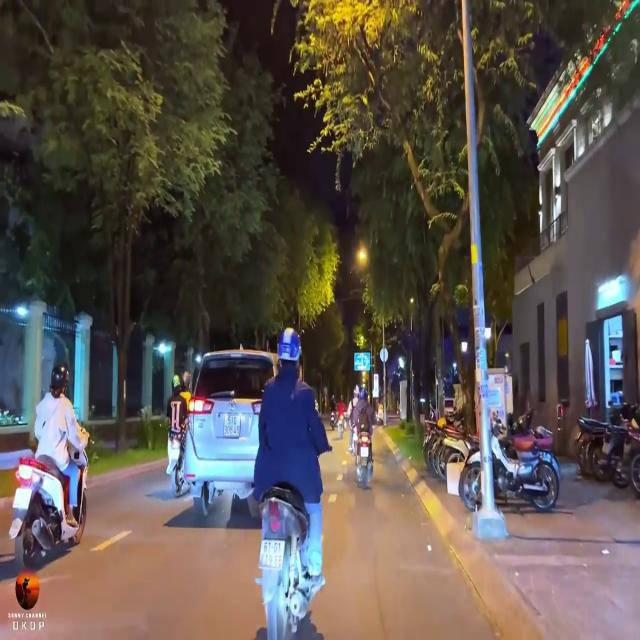bien_trang: (258, 540, 283, 569), (224, 415, 240, 436)
